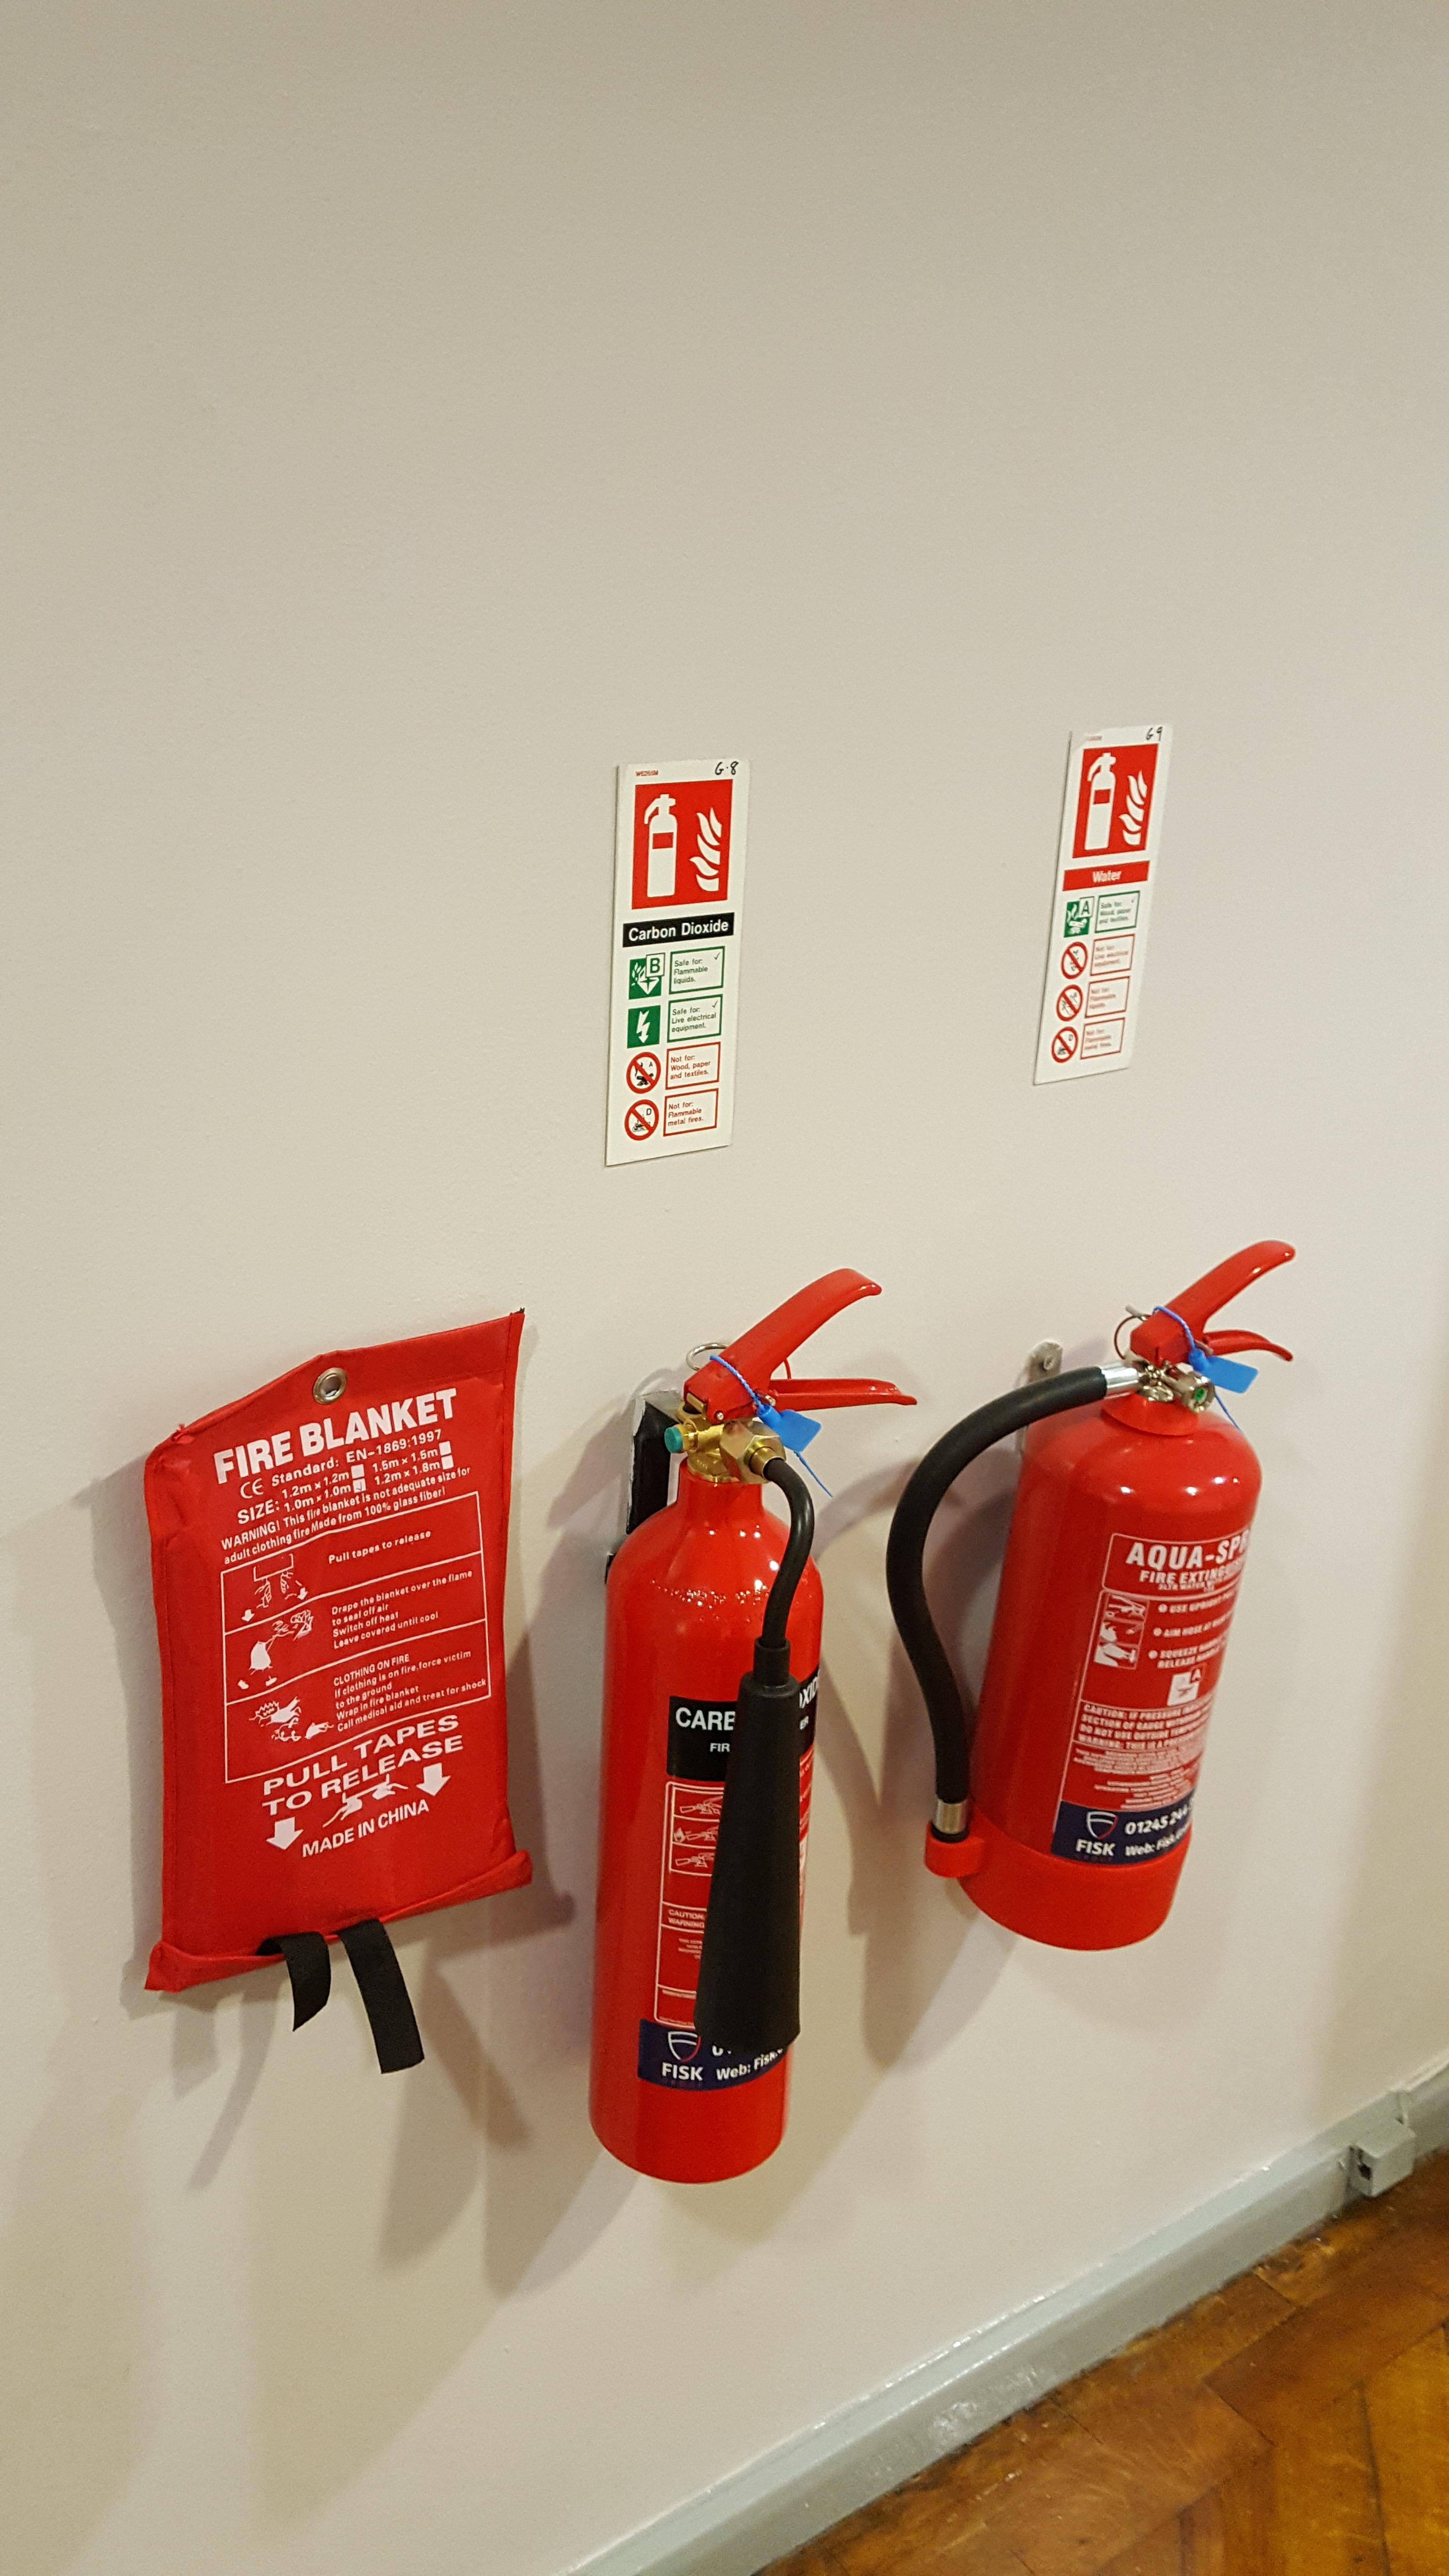blanket: (142, 1306, 533, 1994)
extinguisher: (587, 1269, 916, 2185), (885, 1240, 1295, 1950)
